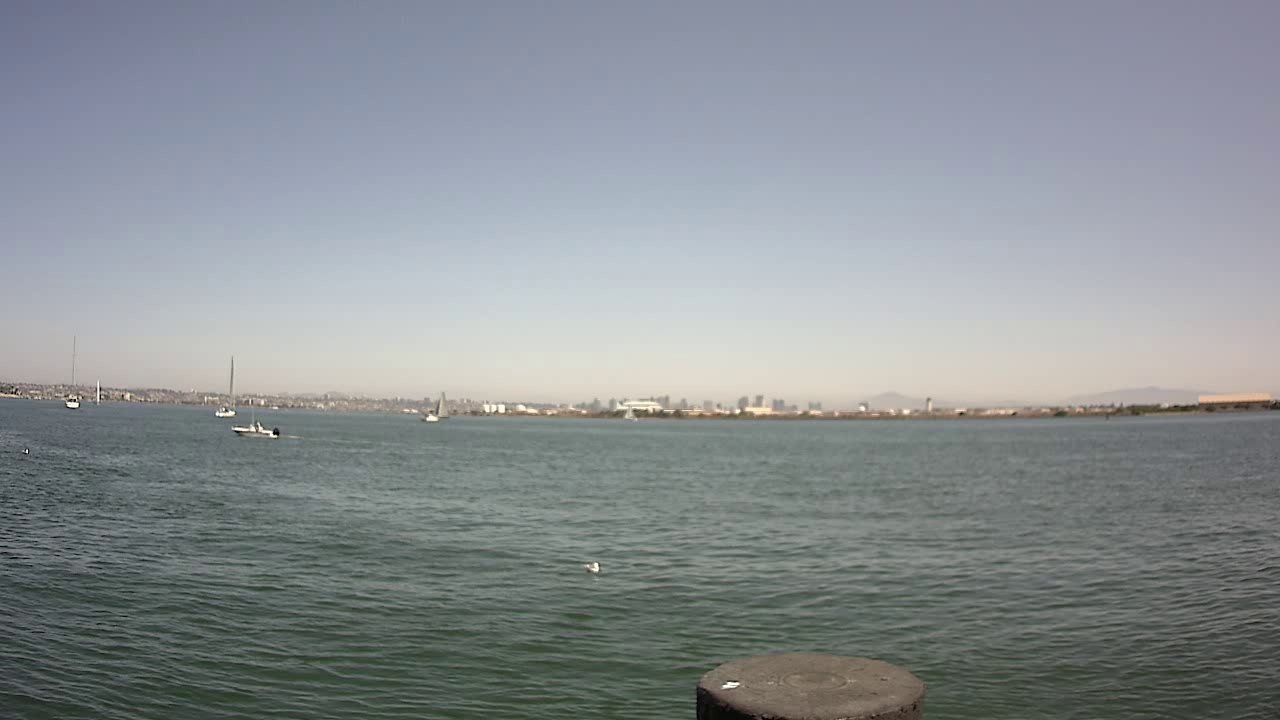target: (228, 415, 285, 443)
